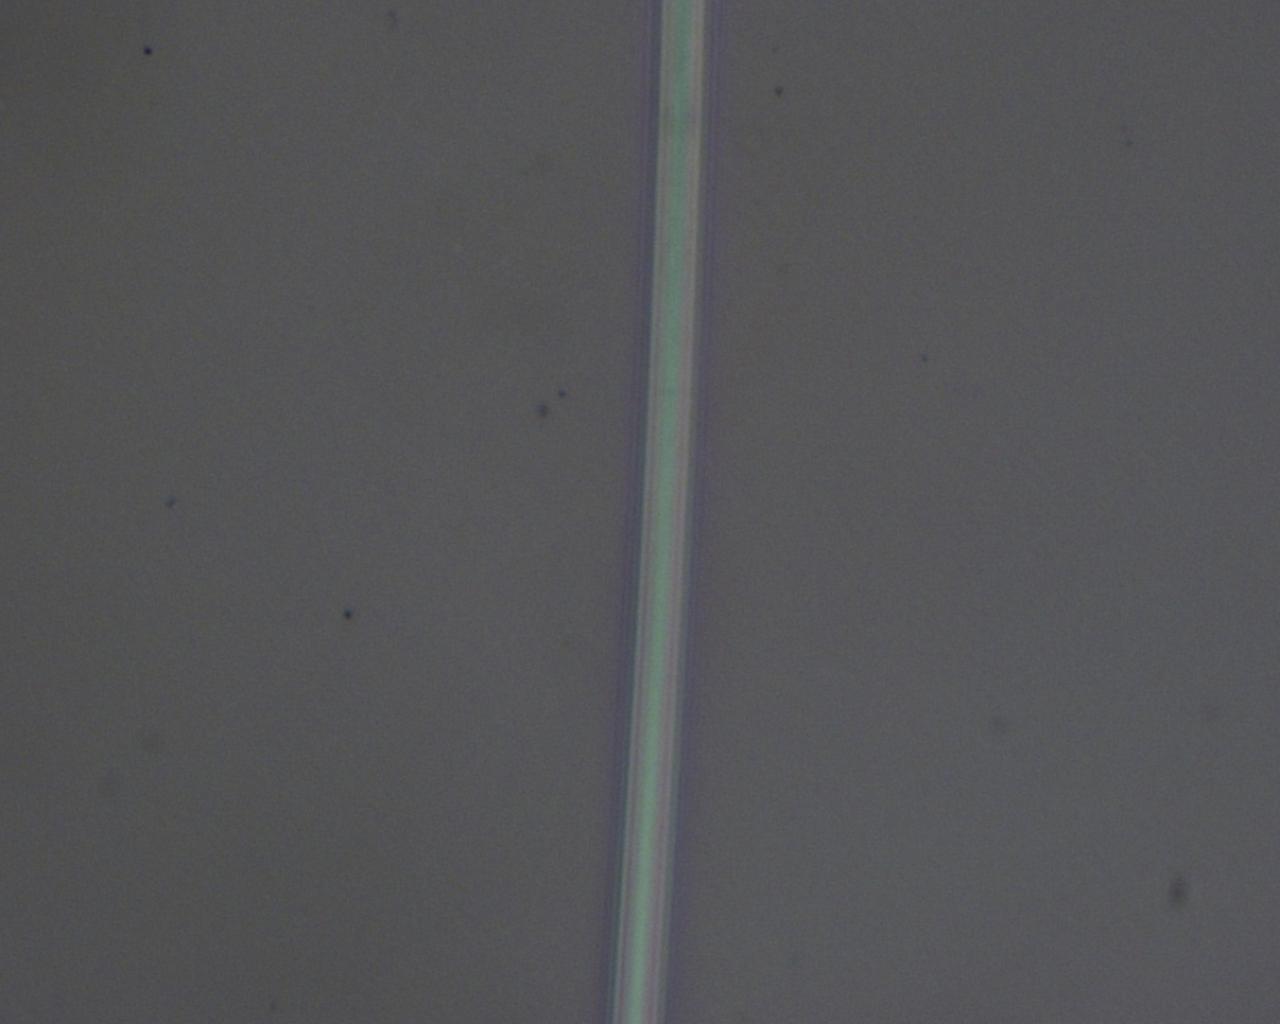fiber: (329, 0, 764, 1024)
